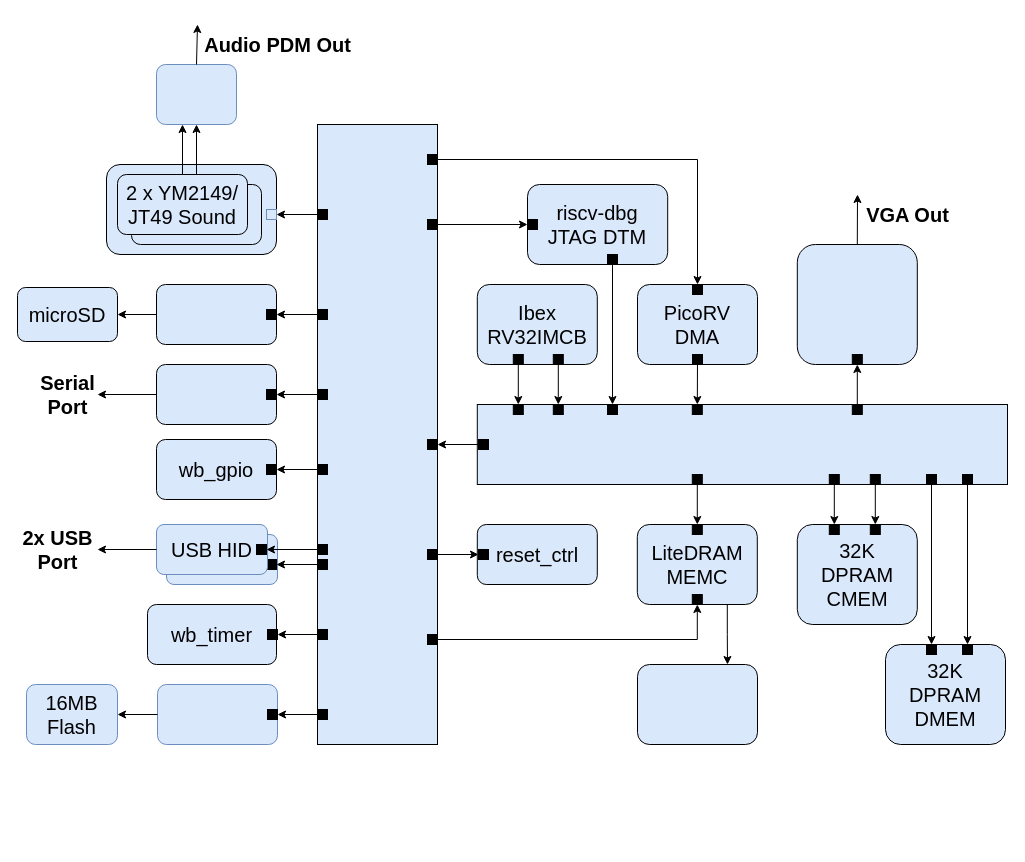
This 1025x862 diagram has some shape labels left out. Here are the shapes that lost their labels. From the top down, the box of each, then its label:
(156, 64, 236, 124): Audio DAC
(156, 284, 276, 344): sdspi
(796, 244, 917, 364): VERA Graphics 64KB VRAM
(156, 364, 276, 424): wbuart32
(316, 124, 438, 744): Wishbone Shared Bus
(476, 404, 1008, 484): Wishbone Crossbar
(156, 684, 278, 744): spiflash
(636, 664, 758, 744): 256MB DDR3
